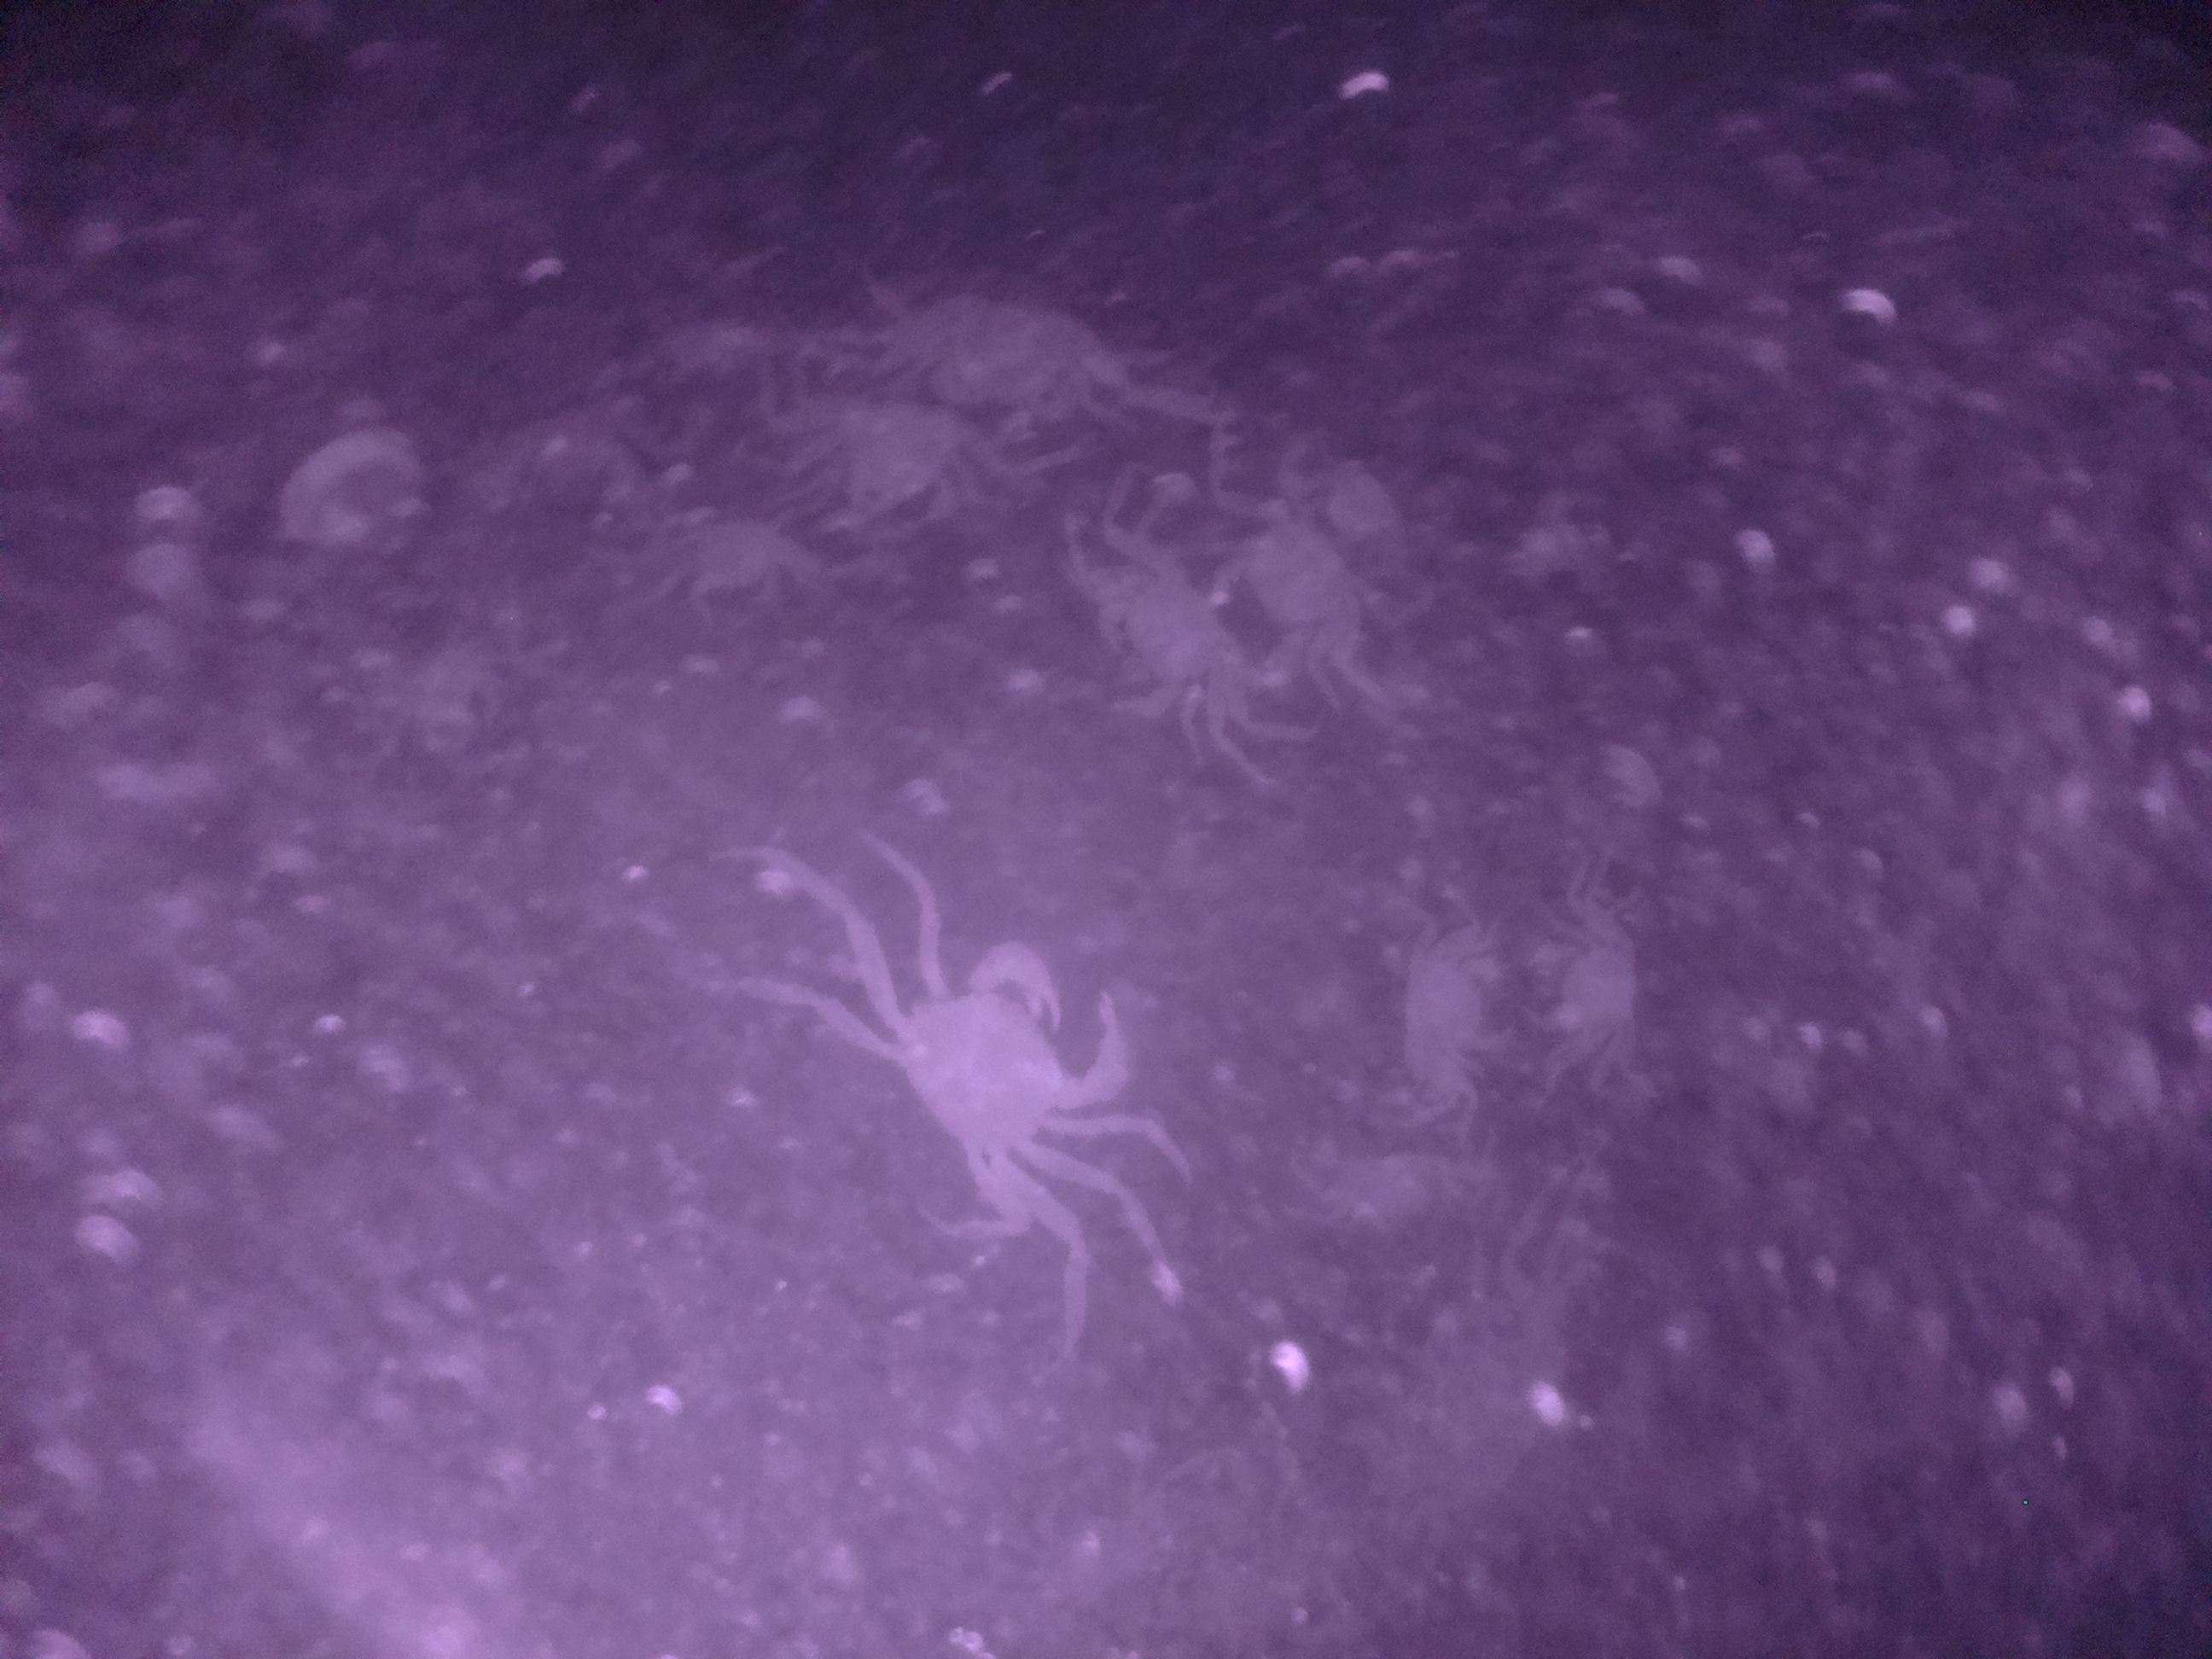Crab: (869, 925, 1137, 1199), (1517, 870, 1695, 1089), (1212, 486, 1409, 683), (1075, 533, 1237, 742), (1385, 910, 1514, 1100)
